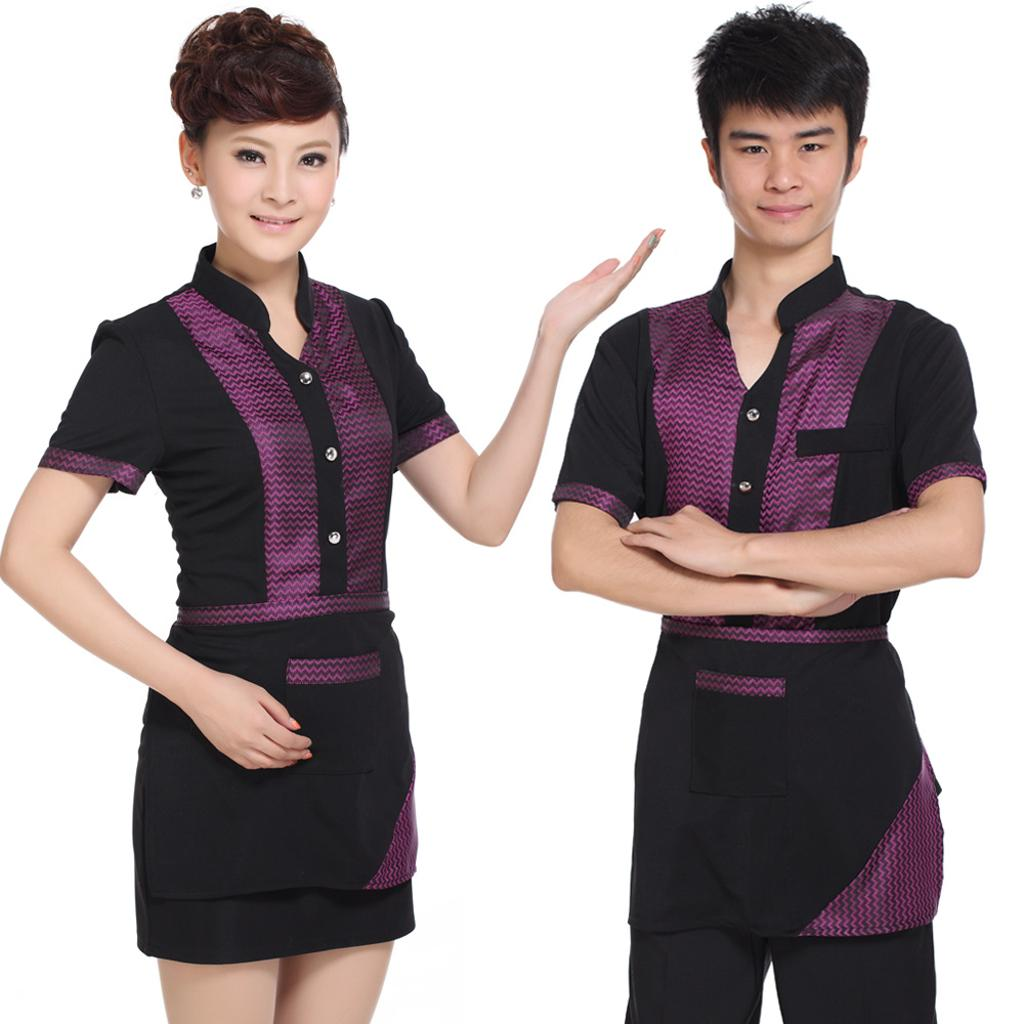face: (202, 84, 340, 258), (720, 82, 852, 246)
